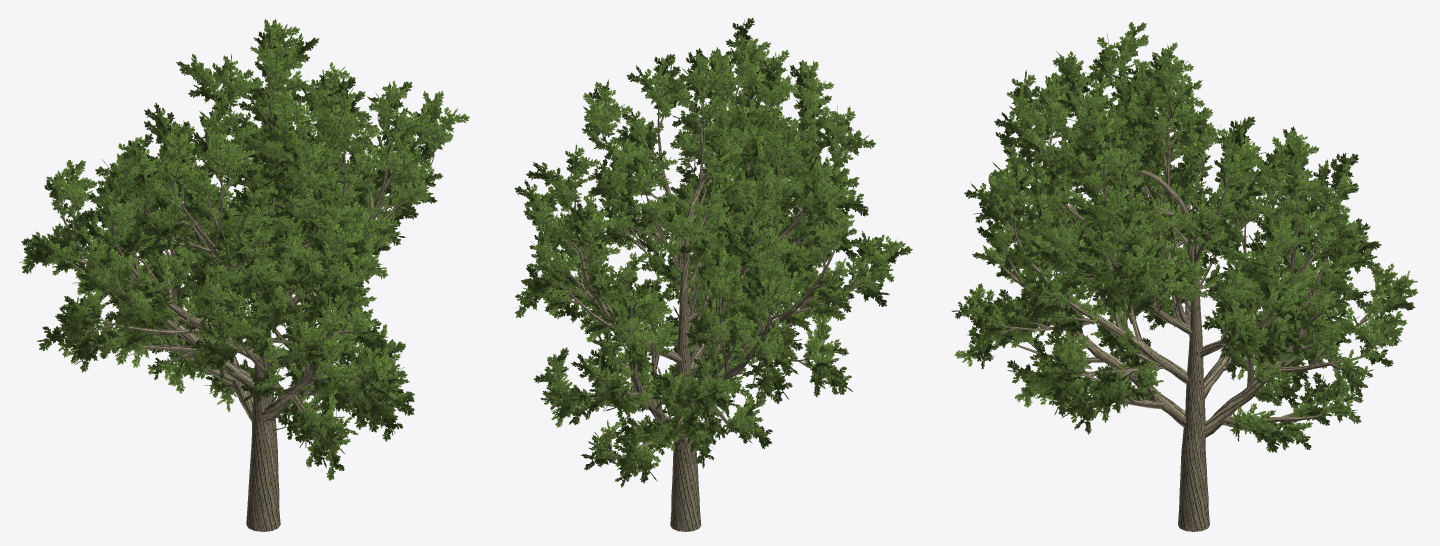
The model's file is oak_large_02.glb.
3 renders of one model, left to right at view 1: azimuth 30°, elevation 25°; view 2: azimuth 150°, elevation 25°; view 3: azimuth 270°, elevation 25°, orthographic. The views are drawn at different scales.
Parts seen in each view (by area): view 1: Tree; view 2: Tree; view 3: Tree.
Part boxes in pixels (x1=…): Tree: x1=19, y1=19, x2=469, y2=531; Tree: x1=515, y1=17, x2=912, y2=531; Tree: x1=951, y1=22, x2=1418, y2=531.
Bounding box in the file's own units: 76.62 × 100 × 89.76.
2 materials, 2 textured.
